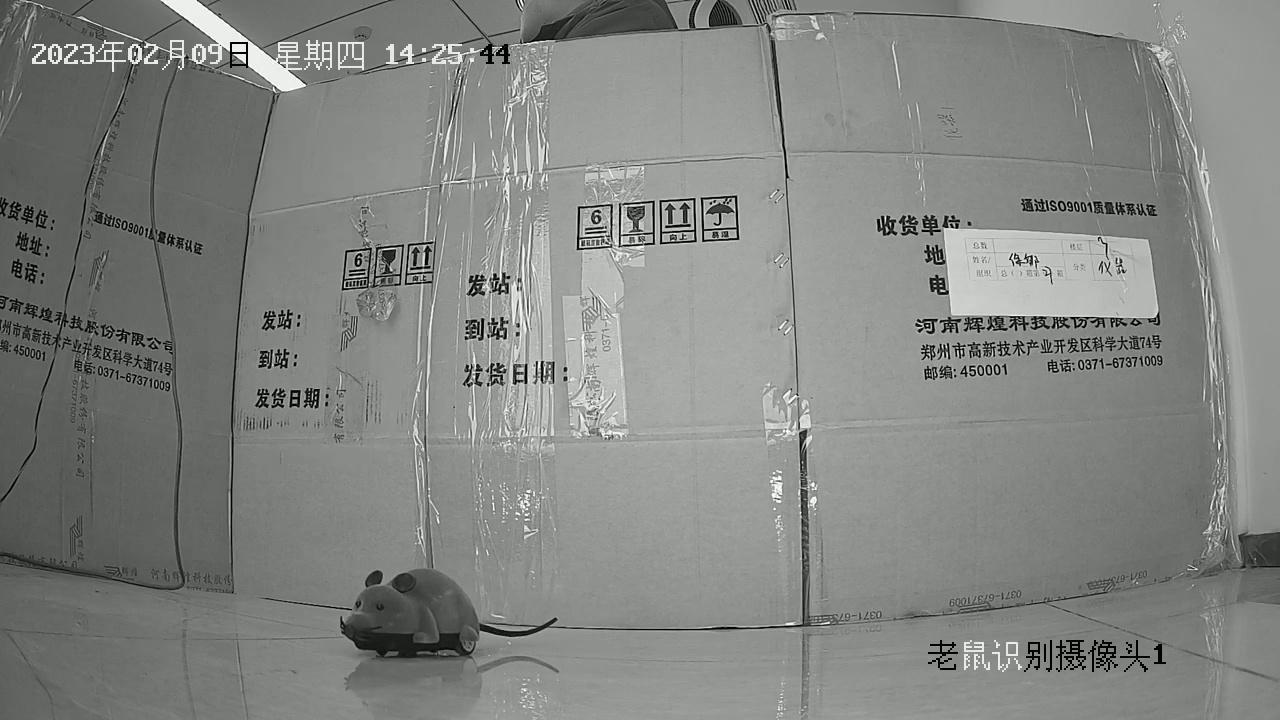rat: (343, 568, 559, 659)
